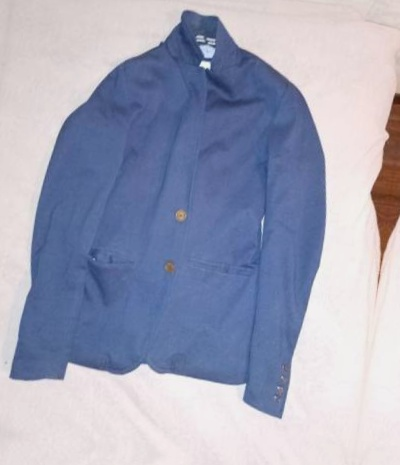Blazer: (0, 0, 363, 434)
